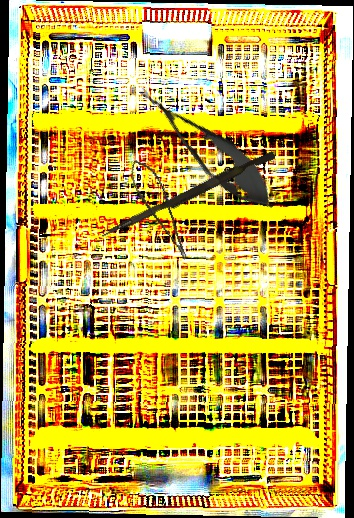Micro Scissor: (125, 72, 289, 223), (125, 153, 191, 268)
Pusher: (100, 146, 276, 245)
